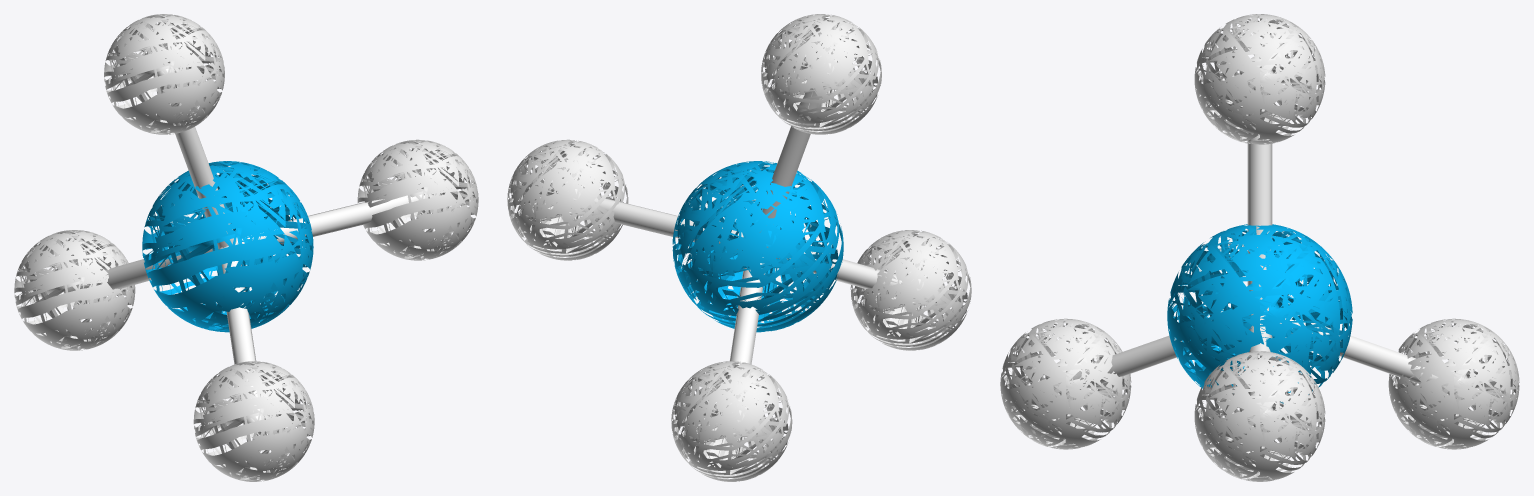
Rendered from Methane_291.gltf.
3 views of the same model, side by side, from view 1: azimuth 30°, elevation 25°; view 2: azimuth 150°, elevation 25°; view 3: azimuth 270°, elevation 25° (orthographic). The views are drawn at different scales.
Parts seen in each view (by area): view 1: node-geom4, node-geom7, node-geom6, node-geom5, node-geom8, node-geom0, node-geom1, node-geom2, node-geom3; view 2: node-geom4, node-geom8, node-geom6, node-geom5, node-geom7, node-geom1, node-geom0, node-geom3, node-geom2; view 3: node-geom4, node-geom5, node-geom6, node-geom7, node-geom8, node-geom1, node-geom3, node-geom2.
Boxes of the visible parts, <box> form: node-geom4: <box>142,161,313,332</box>; node-geom7: <box>193,361,314,481</box>; node-geom6: <box>104,14,224,134</box>; node-geom5: <box>357,139,478,260</box>; node-geom8: <box>14,230,135,350</box>; node-geom0: <box>236,190,425,244</box>; node-geom1: <box>154,68,236,248</box>; node-geom2: <box>218,244,264,424</box>; node-geom3: <box>67,248,214,292</box>; node-geom4: <box>672,161,843,332</box>; node-geom8: <box>671,361,792,481</box>; node-geom6: <box>761,14,881,134</box>; node-geom5: <box>507,139,628,260</box>; node-geom7: <box>850,230,971,350</box>; node-geom1: <box>760,74,828,247</box>; node-geom0: <box>571,197,743,249</box>; node-geom3: <box>726,257,765,422</box>; node-geom2: <box>776,251,918,298</box>; node-geom4: <box>1167,224,1352,403</box>; node-geom5: <box>1194,351,1325,481</box>; node-geom6: <box>1194,14,1325,144</box>; node-geom7: <box>1000,318,1131,449</box>; node-geom8: <box>1388,318,1519,449</box>; node-geom1: <box>1247,74,1272,310</box>; node-geom3: <box>1280,317,1460,393</box>; node-geom2: <box>1061,336,1182,393</box>.
Size of the model in its own units: 2.05e-10 by 2.14e-10 by 2.38e-10.
